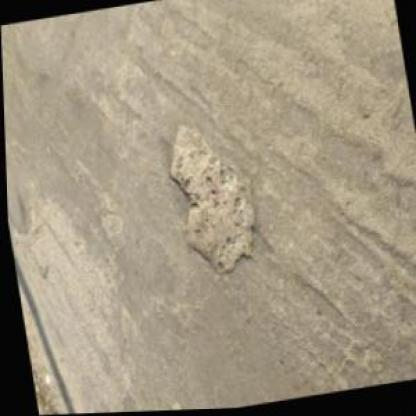pothole: (160, 116, 264, 283)
